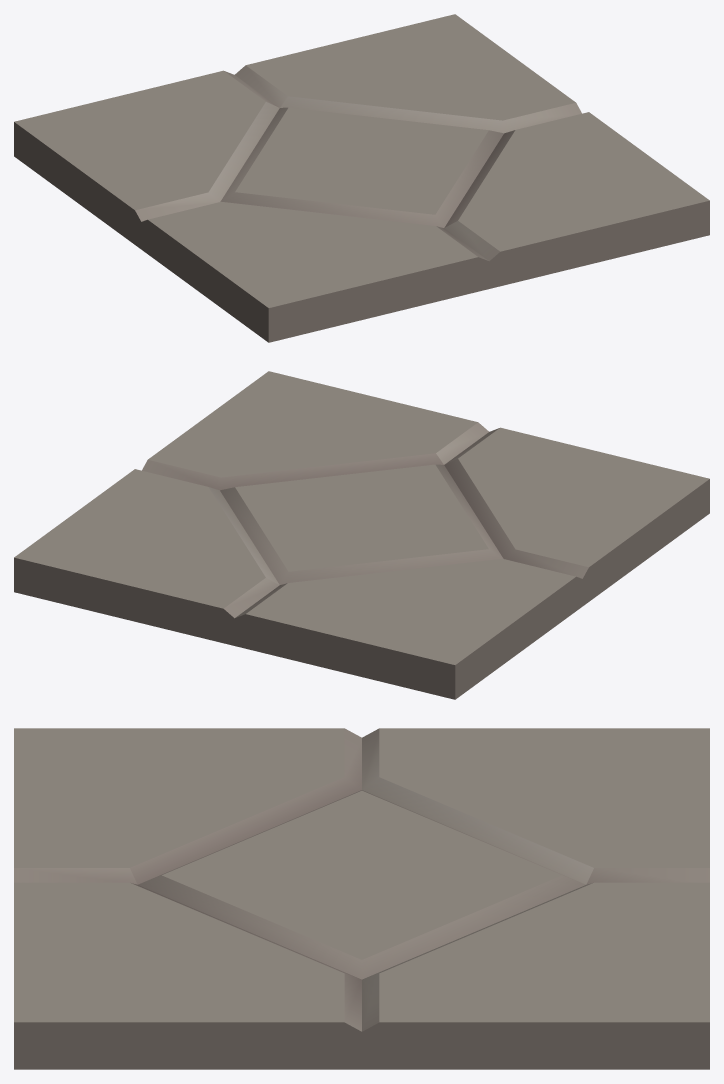
File: floor_tile_small_broken_ALaser.gltf.glb
3 views of the same model, one above another, from view 1: azimuth 30°, elevation 25°; view 2: azimuth 150°, elevation 25°; view 3: azimuth 270°, elevation 25° (orthographic). The views are drawn at different scales.
Visible parts, largest first — view 1: floor_tile_small; view 2: floor_tile_small; view 3: floor_tile_small.
Boxes of the visible parts, x1,y1,x2,y2 form: floor_tile_small: [14, 14, 709, 342]; floor_tile_small: [14, 371, 709, 699]; floor_tile_small: [14, 728, 709, 1069].
Size of the model in its own units: 2 by 0.15 by 2.
2 materials, 1 textured.
